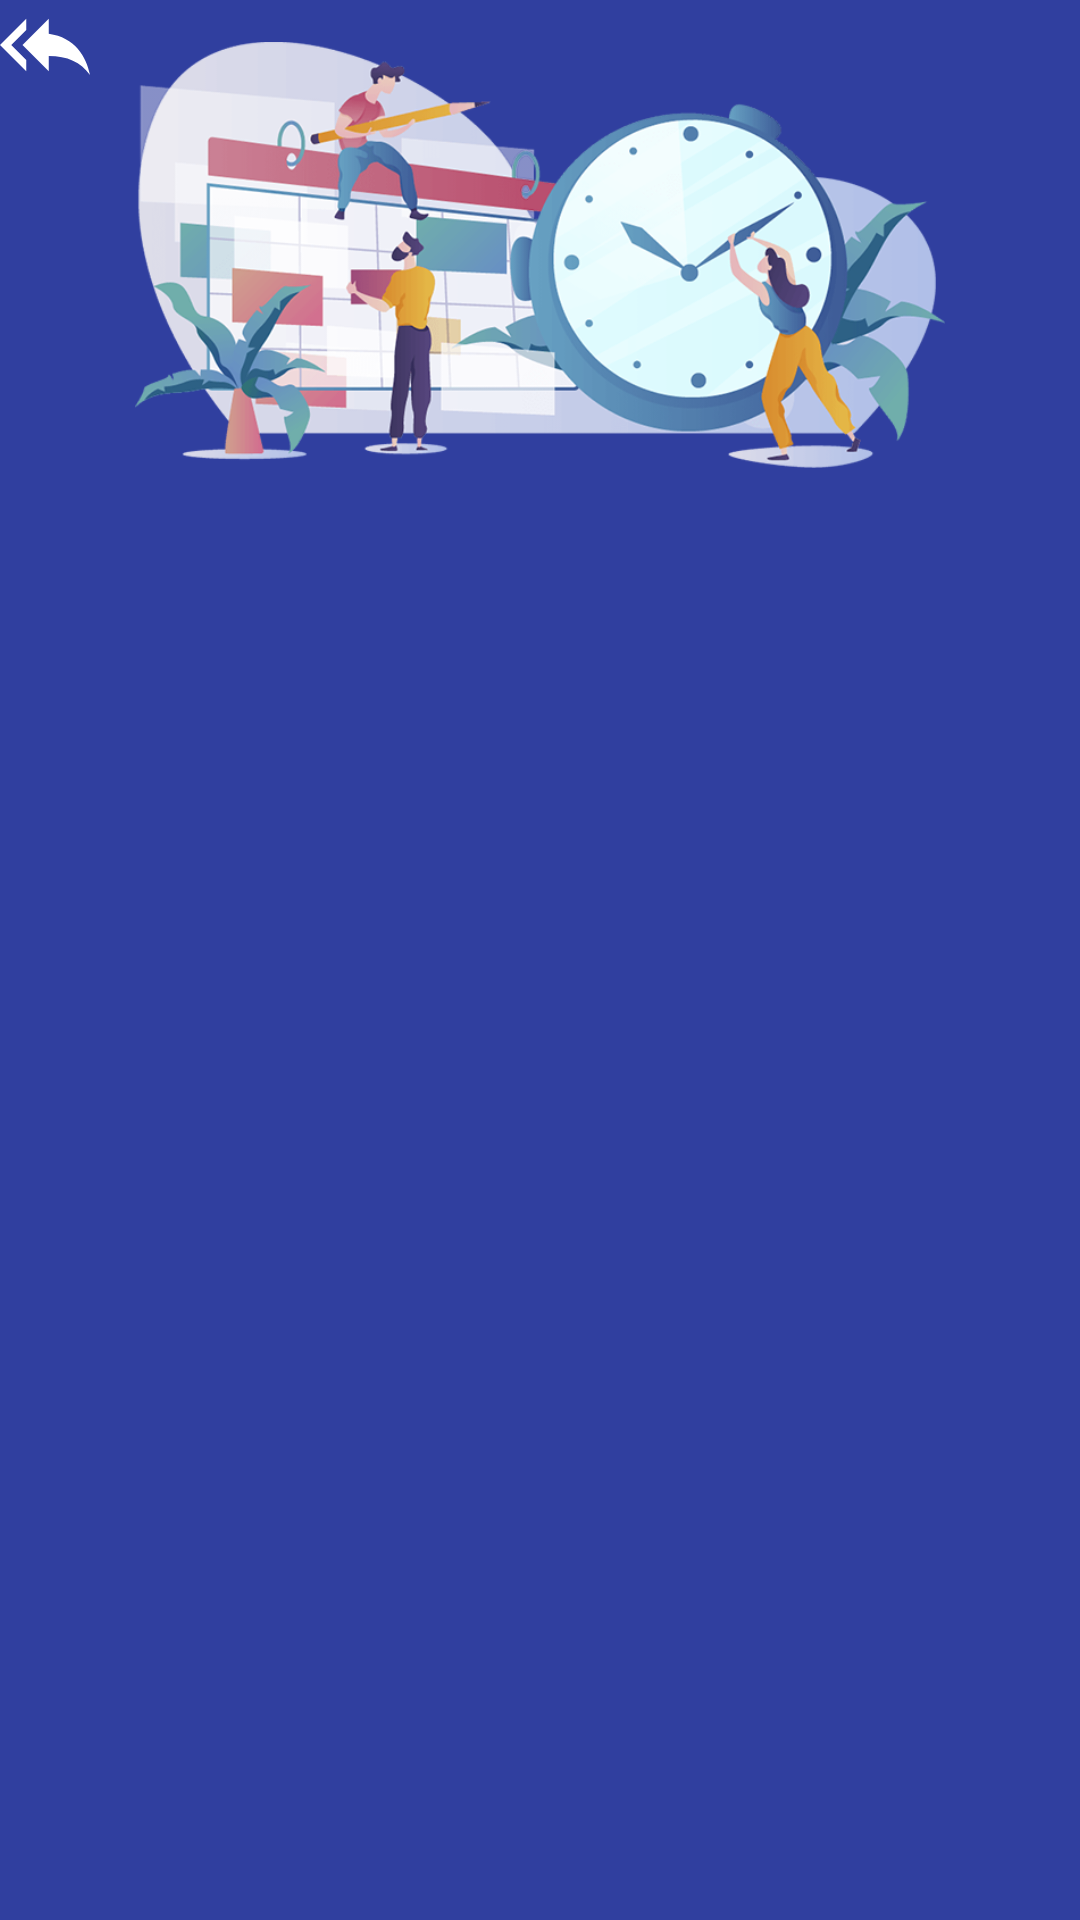

Icon bounding boxes for this 1080 × 1920 phone screenshot, format (x1, y1, x2, y2):
reply all: (0, 19, 90, 75)
